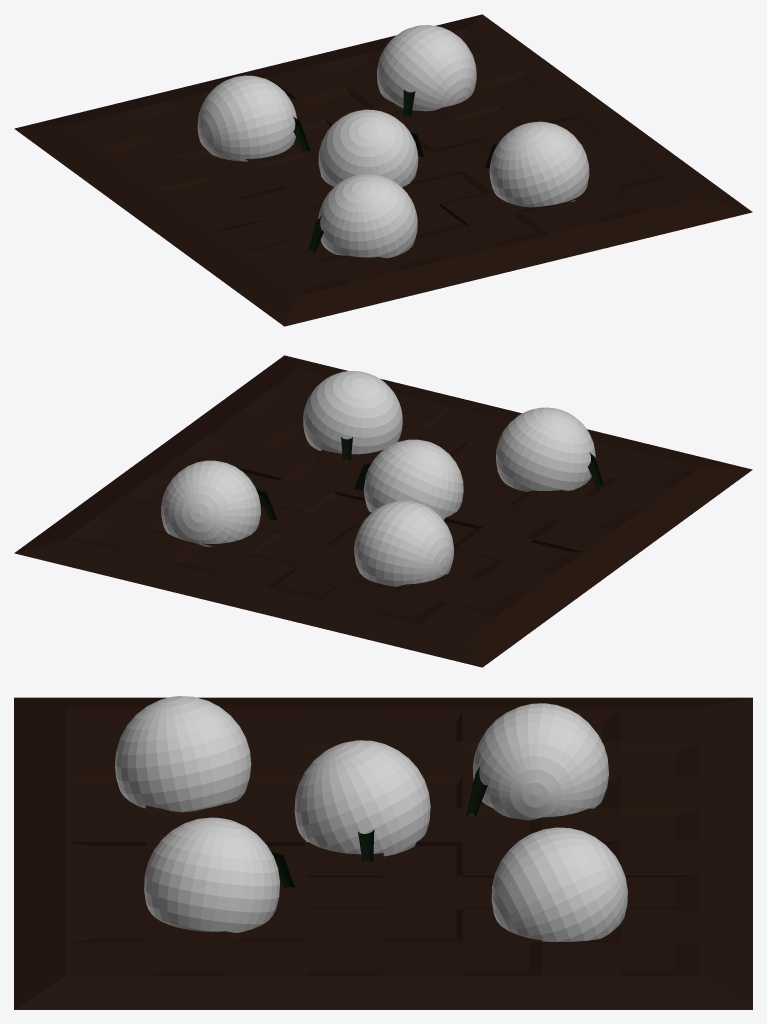
Rendered from Грядка с орбузами.obj.
The picture shows the model from 3 angles, top to bottom: view 1: azimuth 30°, elevation 25°; view 2: azimuth 150°, elevation 25°; view 3: azimuth 270°, elevation 25°; orthographic projection. The views are drawn at different scales.
Parts seen in each view (by area): view 1: Plane, Sphere.001, Sphere.003, Sphere, Sphere.002, Sphere.004; view 2: Plane, Sphere.003, Sphere, Sphere.002, Sphere.001, Sphere.004; view 3: Plane, Sphere, Sphere.001, Sphere.002, Sphere.003, Sphere.004.
Boxes of the visible parts, x1,y1,x2,y2 form: Plane: (14,14,752,326); Sphere.001: (489,121,589,207); Sphere.003: (197,75,296,161); Sphere: (318,174,417,258); Sphere.002: (377,25,476,111); Sphere.004: (318,109,418,186); Plane: (14,355,752,667); Sphere.003: (354,501,453,586); Sphere: (496,407,595,491); Sphere.002: (161,460,260,546); Sphere.001: (303,371,402,454); Sphere.004: (364,439,463,520); Plane: (14,697,752,1009); Sphere: (115,696,251,812); Sphere.001: (144,817,279,932); Sphere.002: (491,827,627,941); Sphere.003: (473,703,608,820); Sphere.004: (294,740,430,856).
Size of the model in its own units: 2 by 0.3697 by 2.
